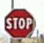stop: (3, 7, 34, 38)
